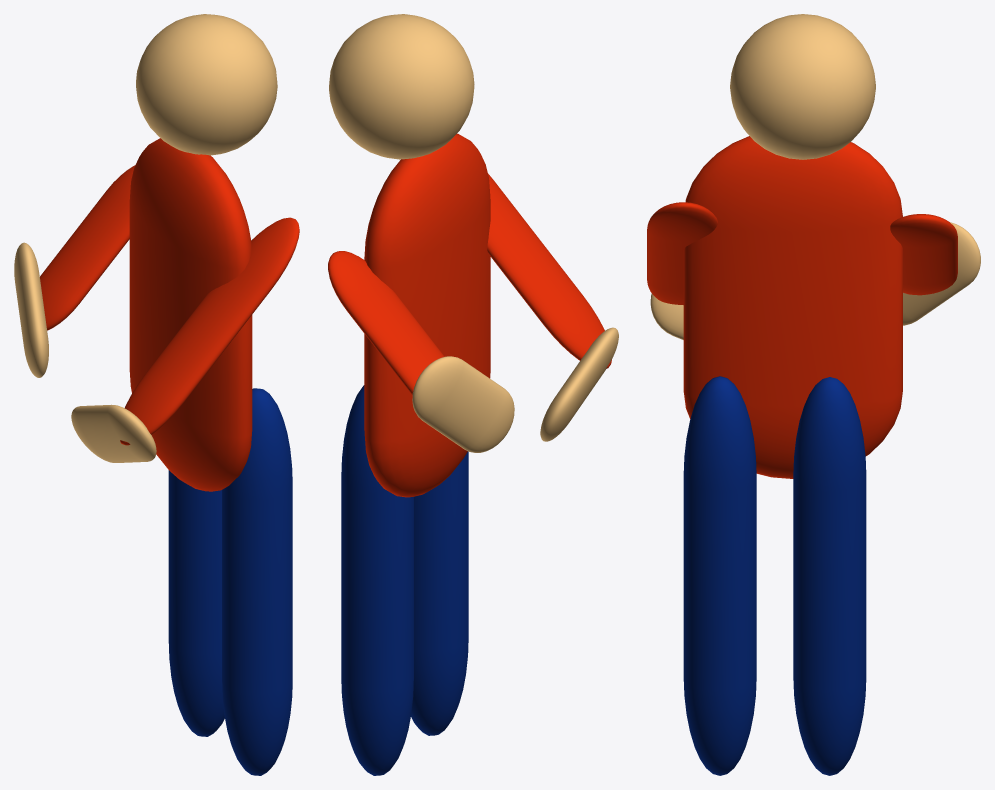
File: person.fbx
3 renders of one model, left to right at view 1: azimuth 30°, elevation 25°; view 2: azimuth 150°, elevation 25°; view 3: azimuth 270°, elevation 25°, orthographic. The views are drawn at different scales.
Visible parts, largest first — view 1: Person, Person__2_, Sphere, Person__1_, Person__3_, Person__4_, Person__6_, Person__5_; view 2: Person, Person__1_, Sphere, Person__2_, Person__3_, Person__5_, Person__4_, Person__6_; view 3: Person, Person__2_, Person__1_, Sphere, Person__3_, Person__4_, Person__5_, Person__6_.
Boxes of the visible parts, box(x1,y1,x2,y2) form: Person: box(129, 138, 252, 491); Person__2_: box(222, 388, 292, 775); Sphere: box(136, 14, 277, 155); Person__1_: box(168, 470, 224, 736); Person__3_: box(120, 217, 299, 445); Person__4_: box(40, 165, 134, 330); Person__6_: box(71, 404, 156, 462); Person__5_: box(14, 242, 48, 377); Person: box(364, 133, 490, 497); Person__1_: box(341, 385, 413, 775); Sphere: box(329, 14, 474, 159); Person__2_: box(411, 451, 468, 735); Person__3_: box(487, 173, 611, 368); Person__5_: box(412, 356, 514, 452); Person__4_: box(328, 251, 444, 395); Person__6_: box(540, 327, 618, 441); Person: box(683, 136, 902, 478); Person__2_: box(683, 376, 756, 775); Person__1_: box(793, 377, 866, 775); Sphere: box(730, 14, 875, 159); Person__3_: box(647, 202, 717, 304); Person__4_: box(890, 214, 957, 295); Person__5_: box(903, 222, 980, 325); Person__6_: box(650, 293, 683, 339).
Size of the model in its own units: 345 by 1130 by 457.
